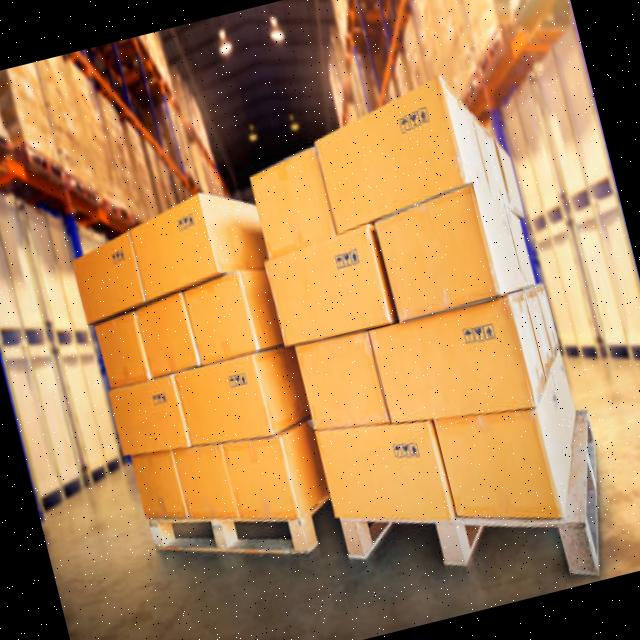Wooden-Pallets: (328, 403, 604, 579), (138, 503, 319, 554), (567, 167, 623, 227), (0, 321, 56, 362), (527, 194, 570, 244), (554, 333, 606, 374), (50, 323, 98, 358), (603, 337, 640, 371)
